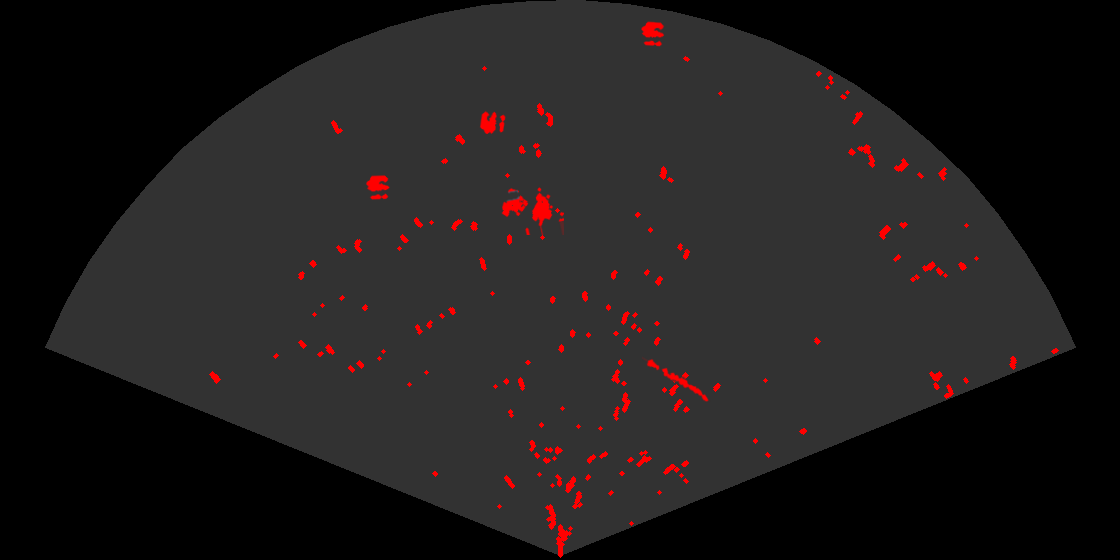ball: (478, 109, 507, 136), (640, 20, 666, 48), (365, 174, 391, 201)
cage: (500, 186, 564, 235)
chain: (642, 355, 711, 403)
